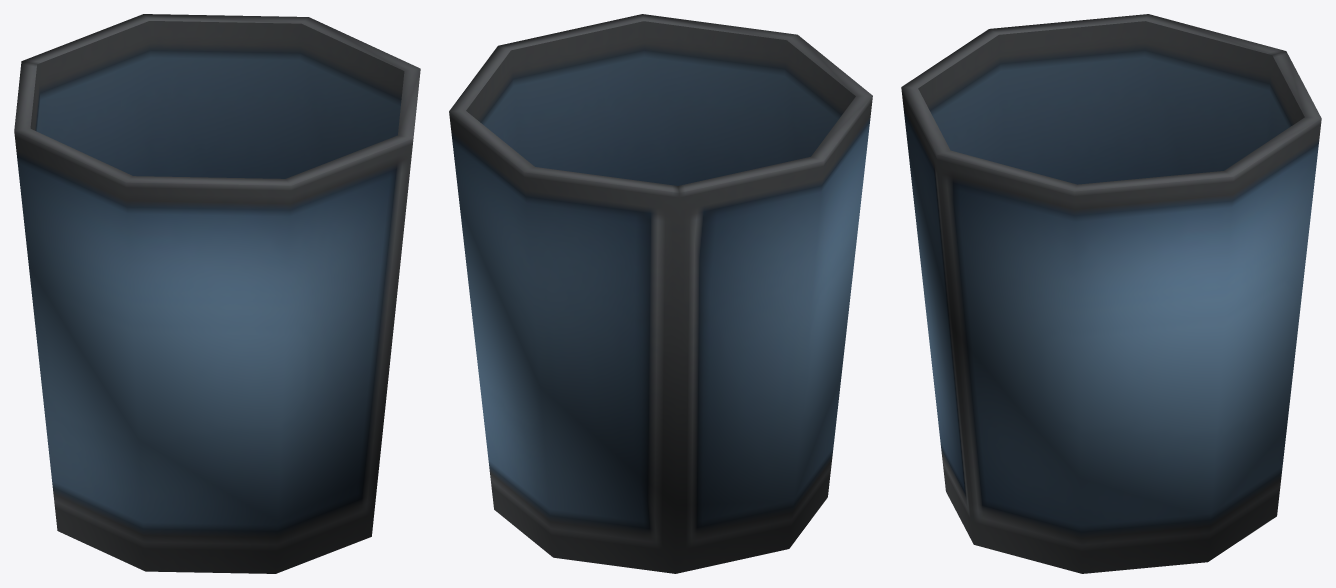
Rendered from CeSuo_01_lajitong_01.FBX.
3 renders of one model, left to right at view 1: azimuth 30°, elevation 25°; view 2: azimuth 150°, elevation 25°; view 3: azimuth 270°, elevation 25°, orthographic.
Visible parts, largest first — view 1: CeSuo_01_lajitong_01; view 2: CeSuo_01_lajitong_01; view 3: CeSuo_01_lajitong_01.
Boxes of the visible parts, box(x1,y1,x2,y2) form: CeSuo_01_lajitong_01: box(14, 14, 420, 573); CeSuo_01_lajitong_01: box(449, 14, 872, 573); CeSuo_01_lajitong_01: box(901, 14, 1321, 573).
Bounding box in the file's own units: 194 × 204 × 194.
